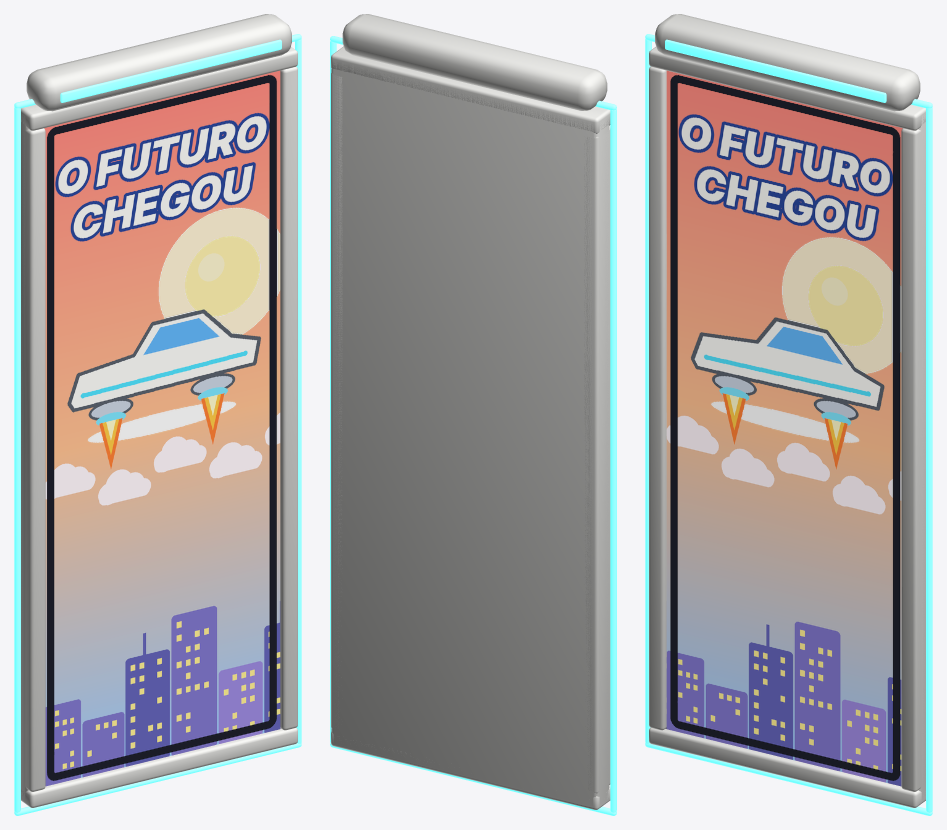
The model's file is totem_carro_voador.glb.
3 renders of one model, left to right at view 1: azimuth 30°, elevation 25°; view 2: azimuth 150°, elevation 25°; view 3: azimuth 330°, elevation 25°, orthographic.
Parts seen in each view (by area): view 1: totem_carro_voador; view 2: totem_carro_voador; view 3: totem_carro_voador.
Part boxes in pixels (x1,y1,x2,y2): totem_carro_voador: [14, 14, 301, 815]; totem_carro_voador: [330, 14, 616, 815]; totem_carro_voador: [645, 14, 932, 815].
Size of the model in its own units: 3.63 by 8.92 by 0.53.
Materials: 3 (2 with a texture image).
